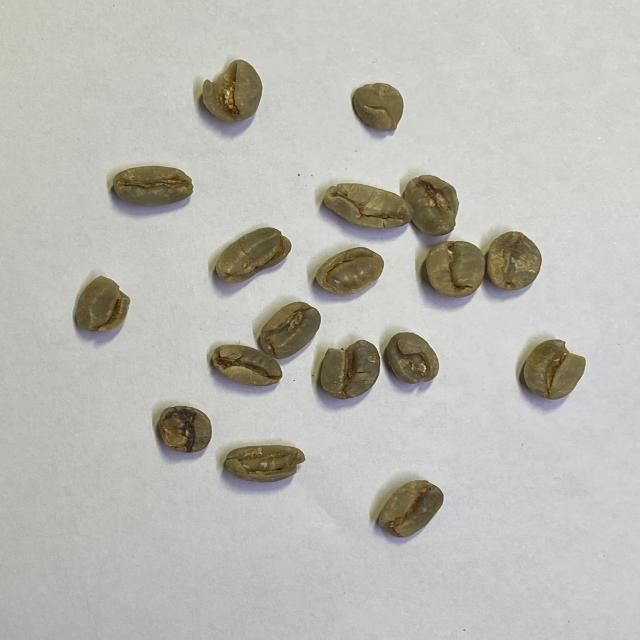bad: (213, 226, 293, 286), (322, 182, 414, 232), (376, 478, 445, 540), (200, 58, 264, 124), (523, 337, 588, 401), (318, 338, 382, 402), (403, 172, 461, 238), (259, 300, 322, 360), (486, 229, 544, 293), (425, 239, 486, 299), (73, 274, 132, 336), (111, 165, 196, 207), (315, 245, 385, 296), (208, 343, 284, 388), (224, 444, 307, 483), (350, 80, 406, 136), (384, 330, 441, 385), (156, 404, 214, 454)
